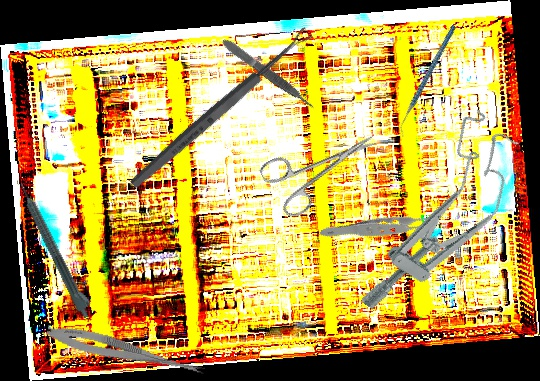Chopper: (369, 24, 487, 138)
Handpiece: (15, 178, 98, 320)
Iris Scissors: (257, 113, 390, 223)
Micro Scissor: (44, 321, 208, 380)
Speculum: (346, 105, 539, 337)
Surgical Spoon: (127, 26, 315, 191)
Tissue Forceps: (319, 176, 446, 285), (220, 36, 317, 113)
